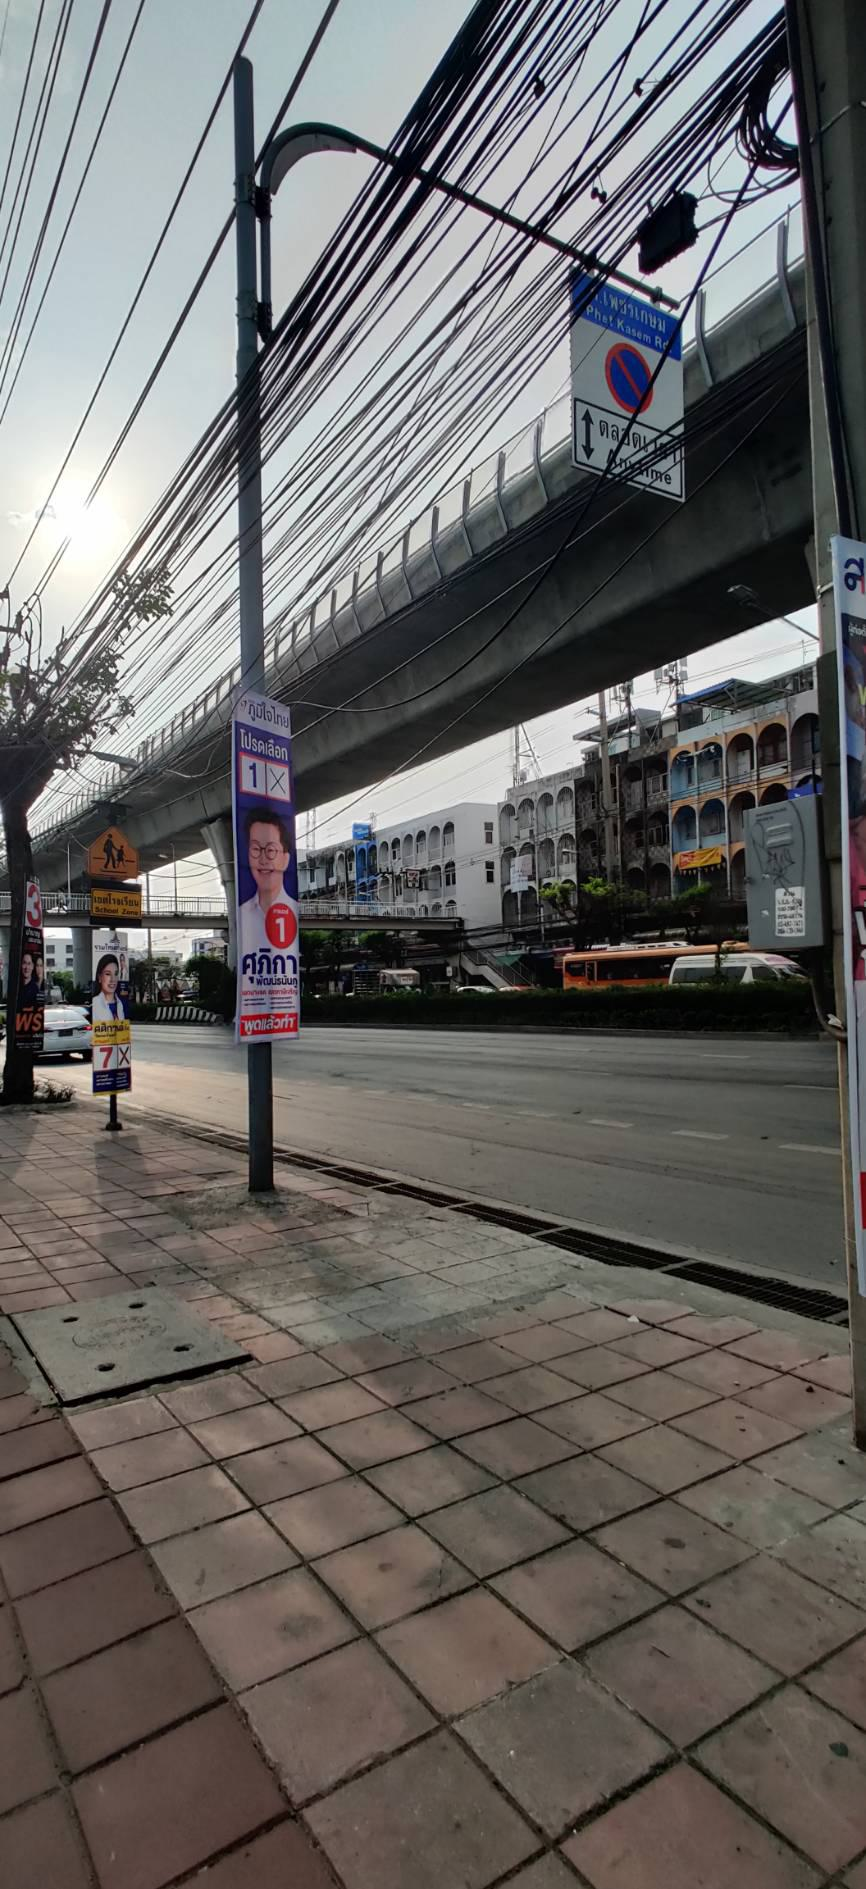Banner: (228, 685, 304, 1037), (84, 935, 128, 1088)
